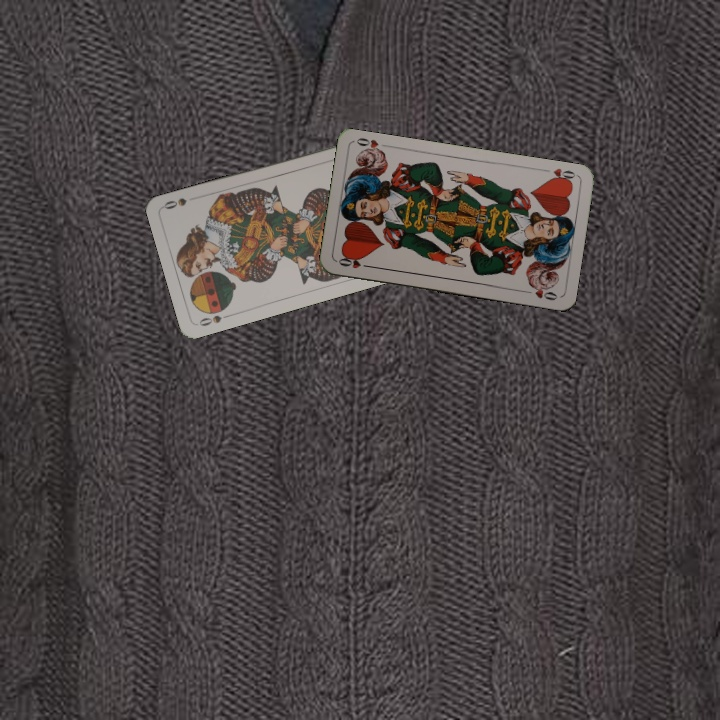HO: (538, 164, 579, 186), (334, 253, 374, 271)
SO: (195, 310, 233, 329)
